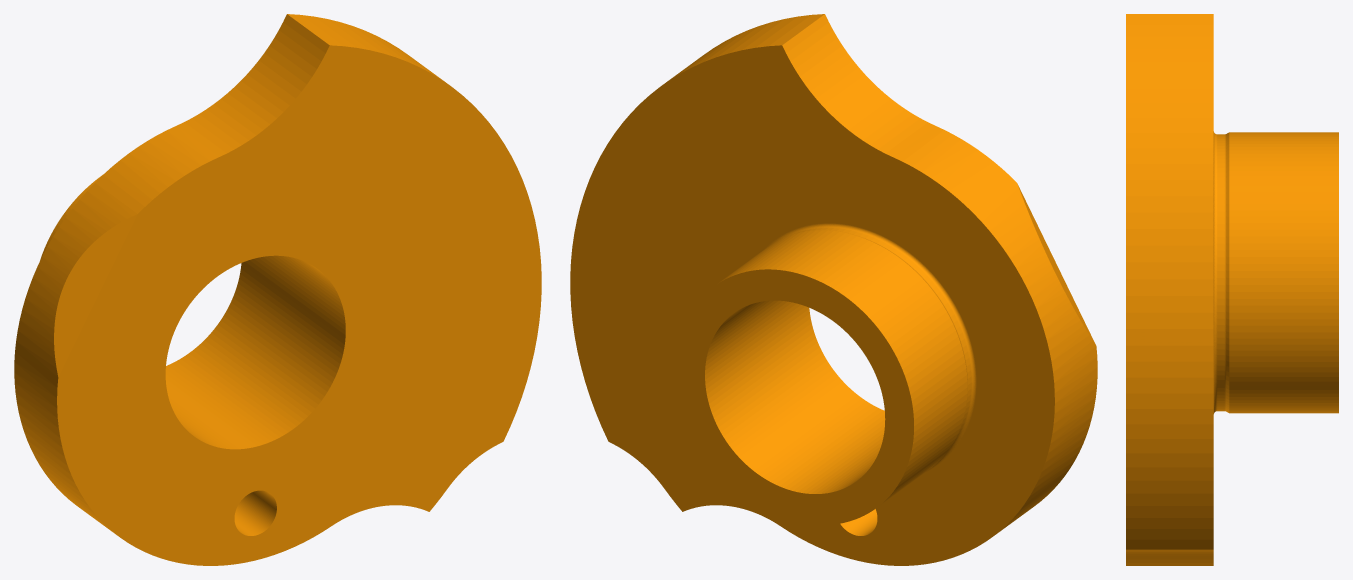
The picture shows the model from 3 angles, left to right: view 1: azimuth 30°, elevation 25°; view 2: azimuth 150°, elevation 25°; view 3: azimuth 270°, elevation 25°; orthographic projection. The views are drawn at different scales.
Visible parts, largest first — view 1: Node1; view 2: Node1; view 3: Node1.
Boxes of the visible parts, x1,y1,x2,y2 form: Node1: (14,14,541,565); Node1: (570,14,1097,565); Node1: (1126,14,1338,565).
Bounding box in the file's own units: 91.48 × 89.66 × 34.
